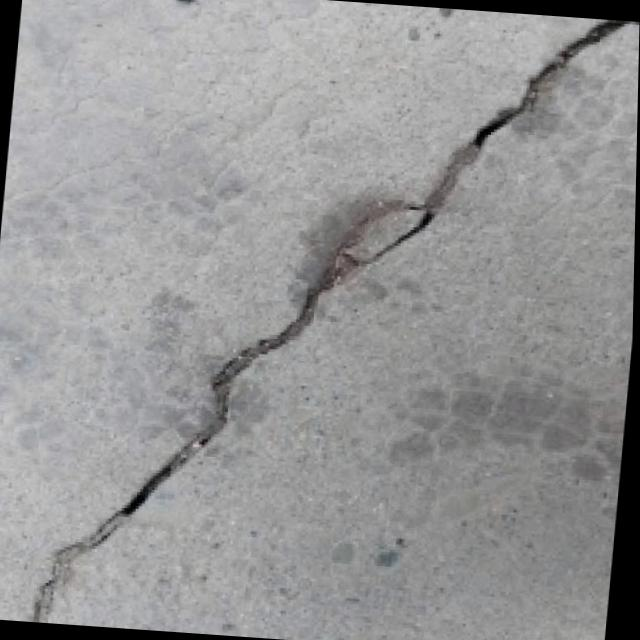Crack: (13, 0, 639, 640)
